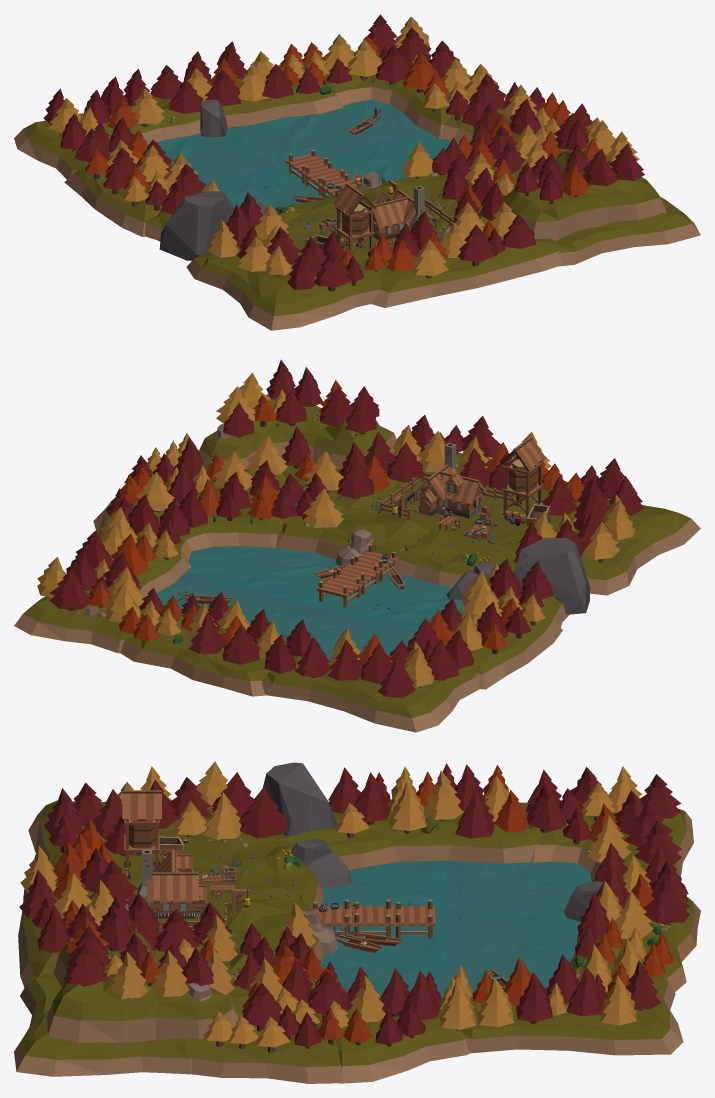
File: Fishing.glb
The picture shows the model from 3 angles, top to bottom: view 1: azimuth 30°, elevation 25°; view 2: azimuth 150°, elevation 25°; view 3: azimuth 270°, elevation 25°; orthographic projection. The views are drawn at different scales.
Parts seen in each view (by area): view 1: TB_Env_Mound_Corner_A (5), TB_Env_Mound_Corner_A (4), TB_Env_Tile_Water_A (12), TB_Env_Mound_Med_A (7), TB_Env_Mound_Corner_A (8), TB_Env_Mound_Corner_A (7), TB_Env_Rock4_C (8), TB_Env_Mound_Corner_A (6), TB_Env_Tile_Water_A (11), TB_Env_Tile_Water_A (14), TB_Env_Mound_Big_A (2), TB_Env_Mound_Med_A (1) (+67 smaller); view 2: TB_Env_Mound_Corner_A (7), TB_Env_Tile_Water_A (11), TB_Env_Mound_Corner_A (4), TB_Env_Mound_Corner_A (5), TB_Env_Mound_Corner_A (6), TB_Env_Mound_Big_A (2), TB_Env_Mound_Big_A, TB_Env_Mound_Med_A (2), TB_Env_Tile_Water_A (12), TB_Env_Rock4_C (8), TB_Env_Mound_Corner_A (1), TB_Env_Mound_Med_A (1) (+66 smaller); view 3: TB_Env_Mound_Corner_A (4), TB_Env_Mound_Corner_A (6), TB_Env_Tile_Water_A (12), TB_Env_Mound_Corner_A (8), TB_Env_Tile_Water_A (14), TB_Env_Mound_Big_A (3), TB_Env_Tile_Water_A (11), TB_Env_Mound_Corner_A (1), TB_Env_Mound_Med_A (1), TB_Env_Tile_Water_A (15), TB_Env_Mound_Med_A (2), TB_Env_Mound_Big_A (1) (+102 smaller).
Boxes of the visible parts, left/top/right/bottom form: TB_Env_Mound_Corner_A (5): left=186, top=244, right=383, bottom=330; TB_Env_Mound_Corner_A (4): left=504, top=147, right=666, bottom=240; TB_Env_Tile_Water_A (12): left=216, top=106, right=392, bottom=172; TB_Env_Mound_Med_A (7): left=362, top=237, right=563, bottom=307; TB_Env_Mound_Corner_A (8): left=556, top=197, right=700, bottom=266; TB_Env_Mound_Corner_A (7): left=14, top=96, right=200, bottom=179; TB_Env_Rock4_C (8): left=159, top=191, right=234, bottom=260; TB_Env_Mound_Corner_A (6): left=304, top=66, right=453, bottom=138; TB_Env_Tile_Water_A (11): left=265, top=141, right=409, bottom=197; TB_Env_Tile_Water_A (14): left=148, top=133, right=263, bottom=187; TB_Env_Mound_Big_A (2): left=199, top=65, right=343, bottom=130; TB_Env_Mound_Med_A (1): left=64, top=162, right=168, bottom=236; TB_Env_Mound_Corner_A (7): left=261, top=655, right=479, bottom=732; TB_Env_Tile_Water_A (11): left=222, top=547, right=411, bottom=616; TB_Env_Mound_Corner_A (4): left=199, top=394, right=396, bottom=470; TB_Env_Mound_Corner_A (5): left=542, top=490, right=700, bottom=595; TB_Env_Mound_Corner_A (6): left=14, top=550, right=189, bottom=653; TB_Env_Mound_Big_A (2): left=120, top=612, right=270, bottom=696; TB_Env_Mound_Big_A: left=276, top=499, right=430, bottom=559; TB_Env_Mound_Med_A (2): left=384, top=528, right=517, bottom=587; TB_Env_Tile_Water_A (12): left=197, top=583, right=357, bottom=644; TB_Env_Rock4_C (8): left=514, top=537, right=590, bottom=614; TB_Env_Mound_Corner_A (1): left=93, top=502, right=291, bottom=567; TB_Env_Mound_Med_A (1): left=444, top=612, right=562, bottom=689; TB_Env_Mound_Corner_A (4): left=47, top=932, right=239, bottom=1042; TB_Env_Mound_Corner_A (6): left=437, top=969, right=683, bottom=1055; TB_Env_Tile_Water_A (12): left=447, top=912, right=580, bottom=990; TB_Env_Mound_Corner_A (8): left=14, top=974, right=191, bottom=1076; TB_Env_Tile_Water_A (14): left=447, top=860, right=591, bottom=911; TB_Env_Mound_Big_A (3): left=144, top=1022, right=344, bottom=1083; TB_Env_Tile_Water_A (11): left=320, top=912, right=447, bottom=990; TB_Env_Mound_Corner_A (1): left=308, top=979, right=470, bottom=1083; TB_Env_Mound_Med_A (1): left=384, top=802, right=540, bottom=863; TB_Env_Tile_Water_A (15): left=321, top=860, right=447, bottom=911; TB_Env_Mound_Med_A (2): left=221, top=846, right=323, bottom=908; TB_Env_Mound_Big_A (1): left=219, top=811, right=399, bottom=869.
Size of the model in its own units: 69.59 by 13.89 by 74.3.
Materials: 1 (1 with a texture image).
